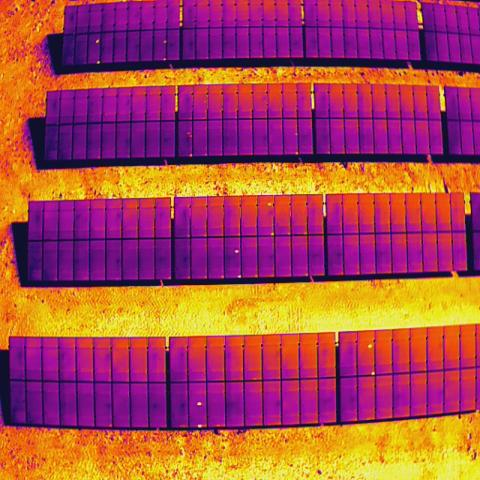fault: (367, 343, 373, 350), (370, 370, 376, 376), (197, 423, 202, 429), (95, 38, 100, 44), (304, 272, 309, 277), (188, 153, 193, 158), (96, 60, 101, 65), (186, 275, 191, 280), (162, 57, 167, 62), (196, 402, 202, 406), (203, 152, 207, 158), (163, 39, 167, 45), (237, 274, 241, 279), (254, 274, 259, 278), (234, 249, 239, 253), (267, 202, 271, 207), (303, 231, 307, 236), (294, 151, 299, 155), (294, 132, 298, 137), (220, 275, 224, 279), (270, 232, 274, 236), (287, 232, 291, 236), (186, 131, 190, 135), (97, 156, 101, 160), (203, 275, 207, 279), (168, 276, 172, 280), (327, 151, 330, 155), (190, 134, 192, 139)
